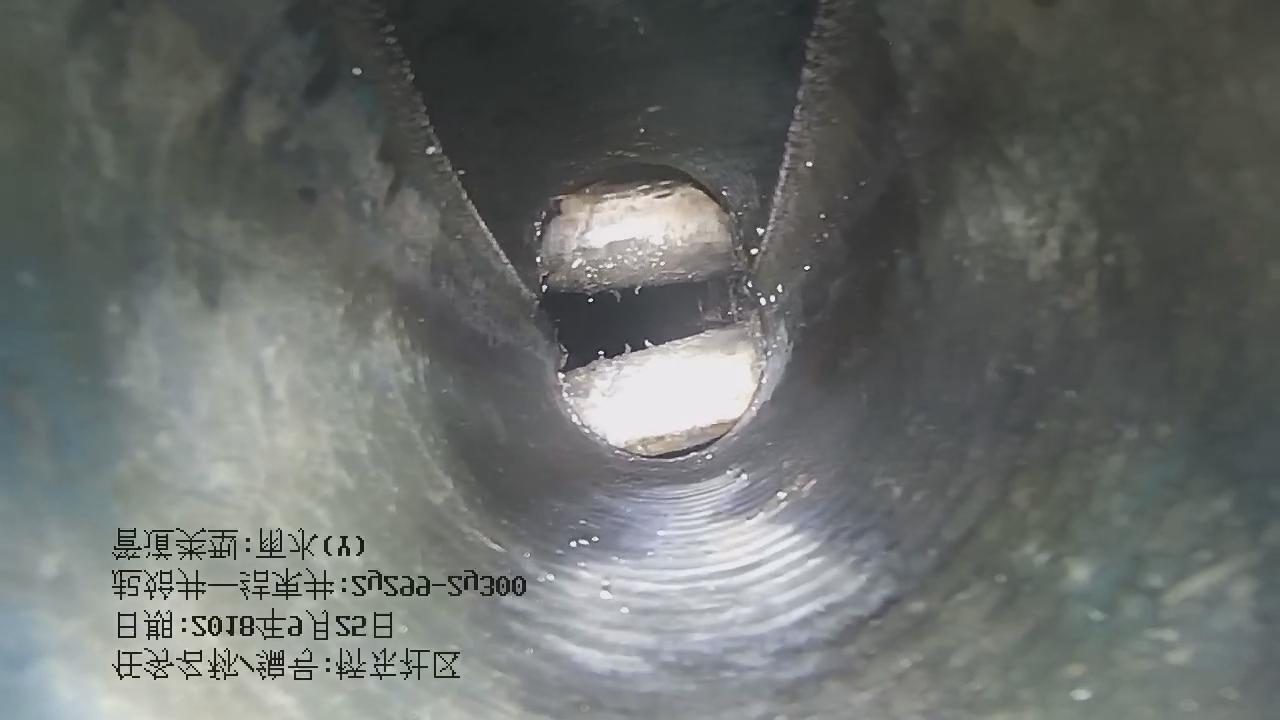YWCR: (563, 325, 759, 456)
